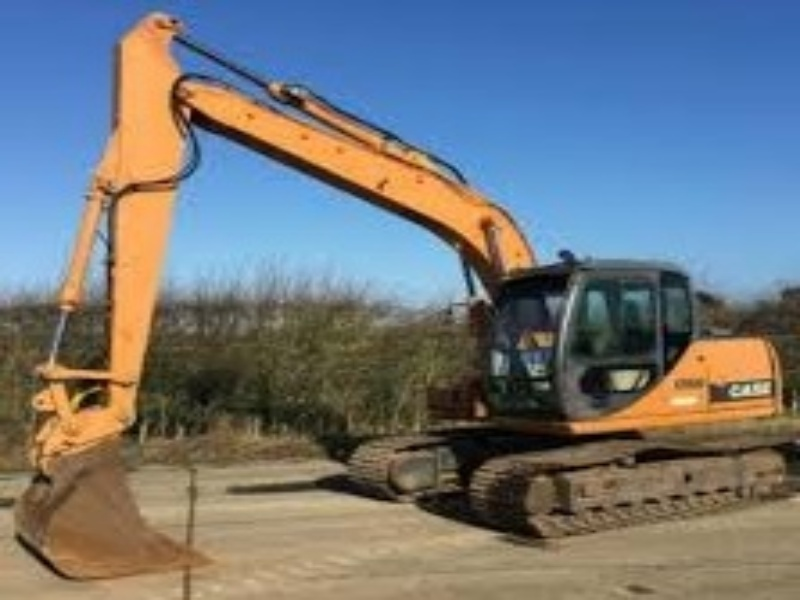wajueji: (348, 158, 800, 573)
